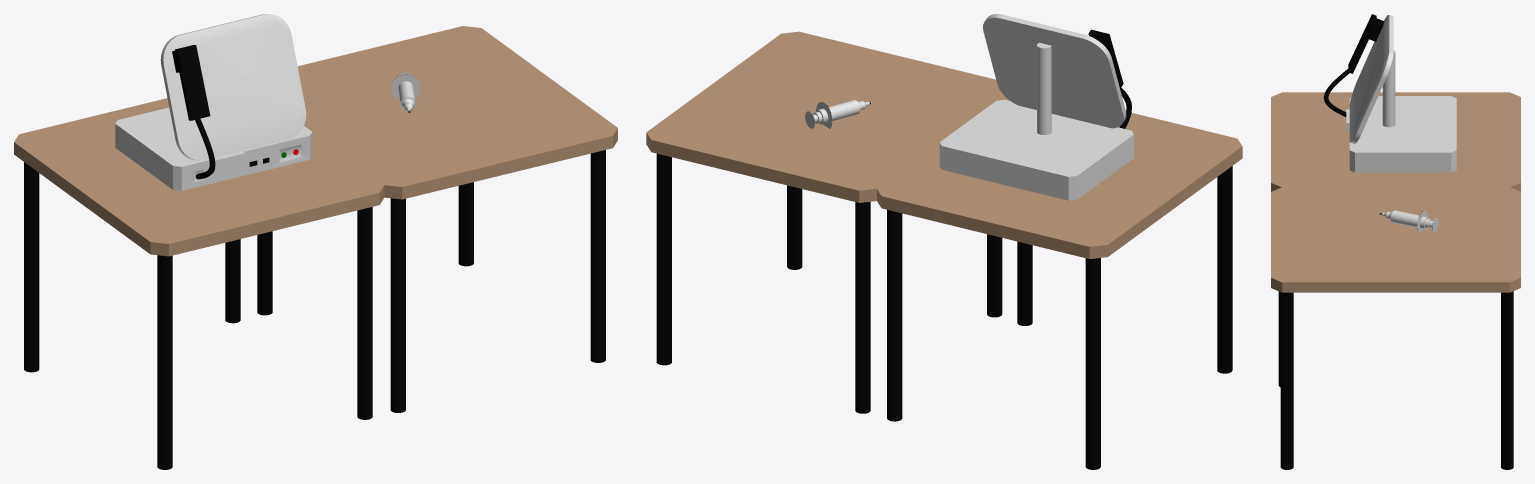
File: SkinTestArea.fbx
3 views of the same model, side by side, from view 1: azimuth 30°, elevation 25°; view 2: azimuth 150°, elevation 25°; view 3: azimuth 270°, elevation 25° (orthographic). The views are drawn at different scales.
Parts seen in each view (by area): view 1: TableTop; view 2: TableTop; view 3: TableTop.
Part boxes in pixels (<box>): TableTop: <box>14,14,617,469</box>; TableTop: <box>646,14,1242,469</box>; TableTop: <box>1271,14,1520,469</box>.
Size of the model in its own units: 207 by 155 by 115.
Materials: 1 (1 with a texture image).
